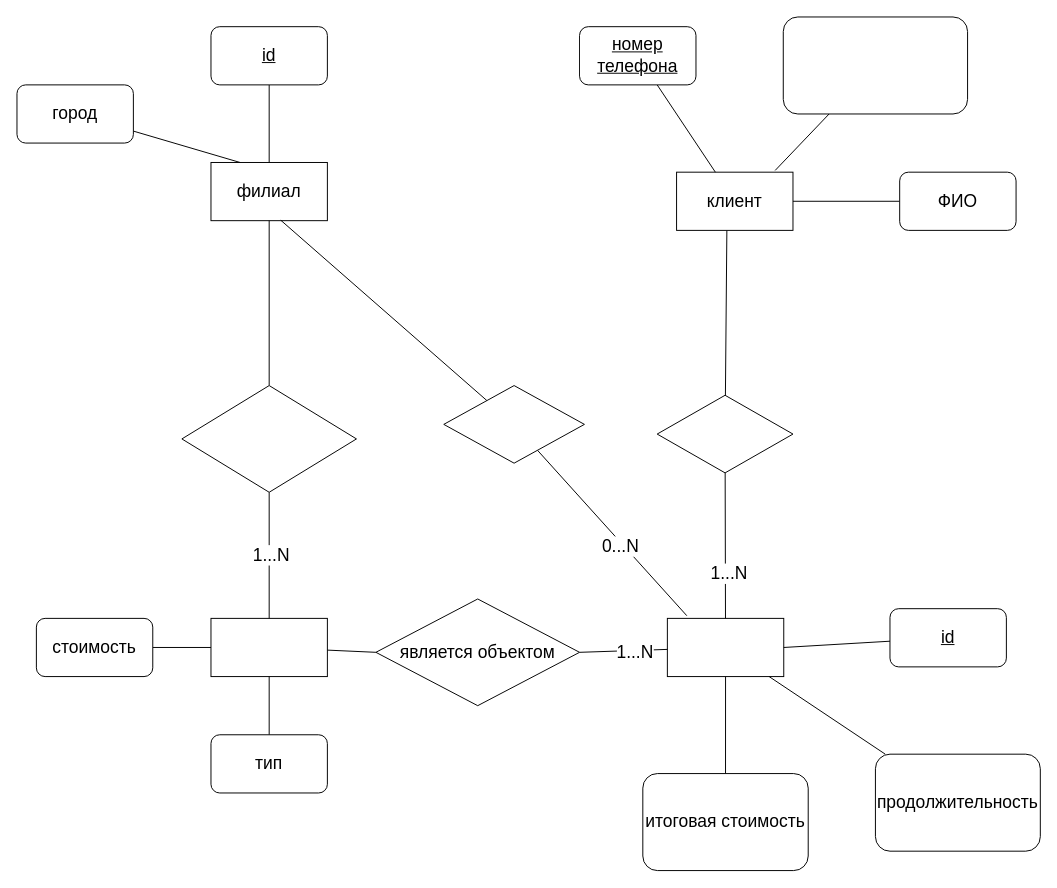
Image size: 1057x888. Some labels were removed from this diagram. Here are the shapes that lost their labels. From the top down, the centre of each, then its label:
(x=875, y=65): банковская карта/электронный кошелек
(x=268, y=438): имеет (в парке)
(x=513, y=424): предлагает
(x=724, y=433): делает
(x=268, y=647): велосипед
(x=725, y=647): аренда
